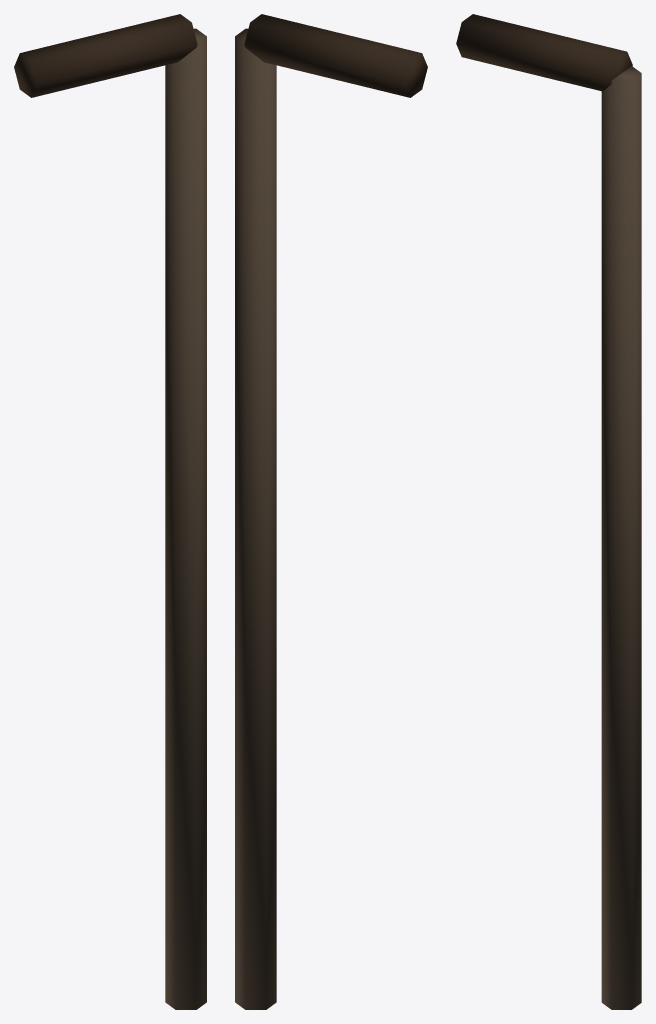
The model's file is cane.glb.
3 renders of one model, left to right at view 1: azimuth 30°, elevation 25°; view 2: azimuth 150°, elevation 25°; view 3: azimuth 330°, elevation 25°, orthographic. The views are drawn at different scales.
Parts seen in each view (by area): view 1: cane; view 2: cane; view 3: cane.
Part boxes in pixels (x1,y1,x2,y2): cane: (14,14,206,1009); cane: (235,14,427,1009); cane: (456,14,641,1009).
Bounding box in the file's own units: 0.1756 × 0.9373 × 0.04.
